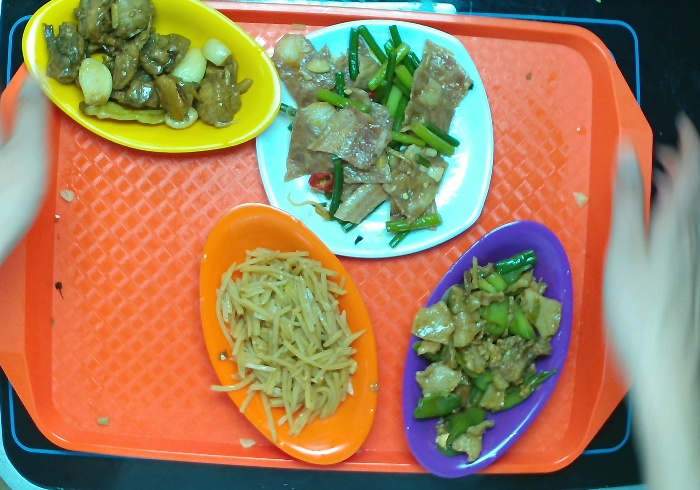RJxy-Fen_Hong_Tuo_Yuan: (398, 218, 582, 490)
RJxy-Huang_Se_Tuo_Yuan: (13, 1, 284, 166)
RJxy-Ju_Huang_Tuo_Yuan: (186, 192, 385, 470)
RJxy-Si_Fang_Die: (252, 14, 496, 265)
